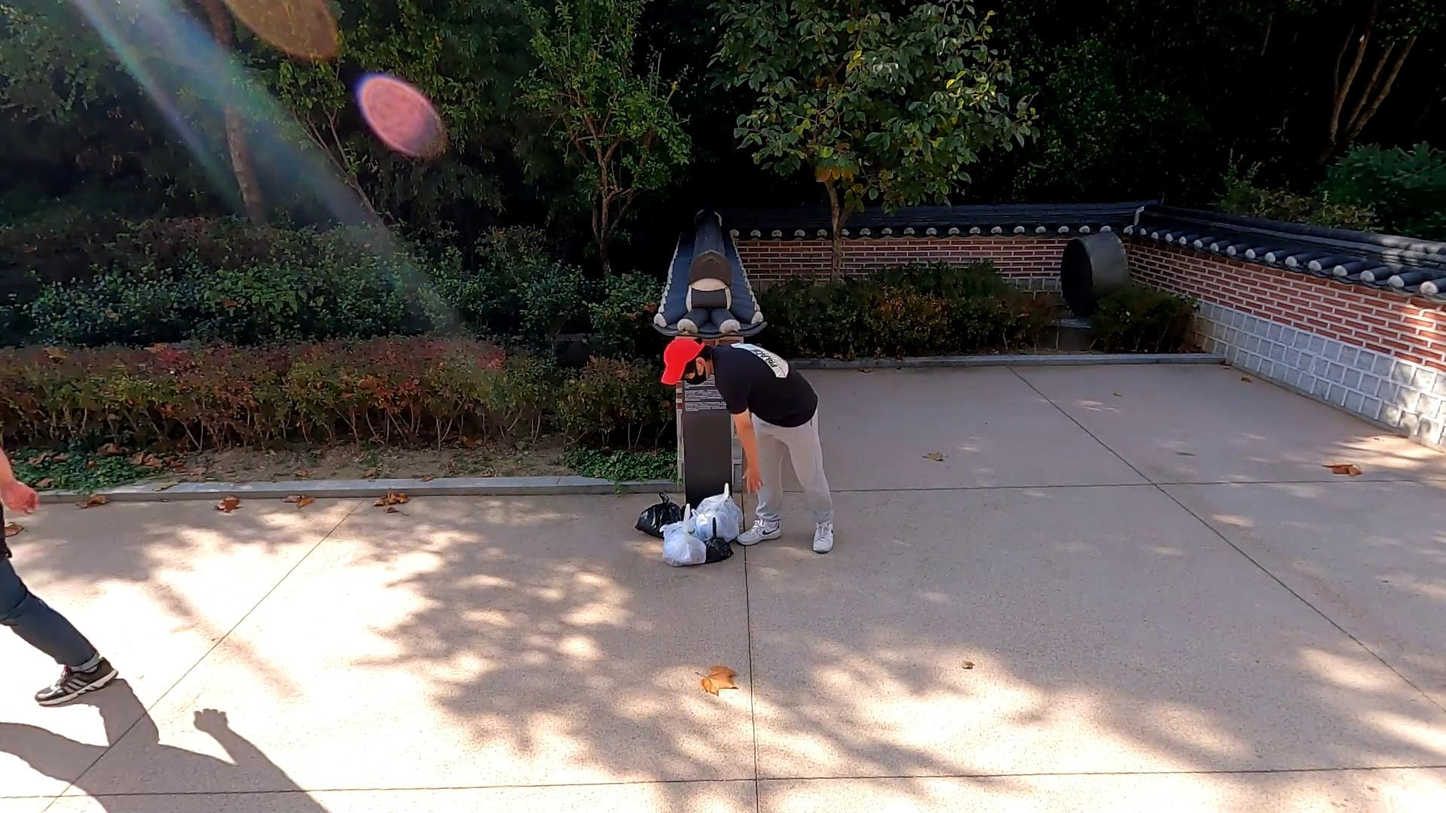person: (653, 328, 837, 558), (0, 420, 132, 728)
trash: (634, 485, 697, 547), (652, 507, 708, 573), (693, 482, 742, 543), (690, 515, 737, 568)
